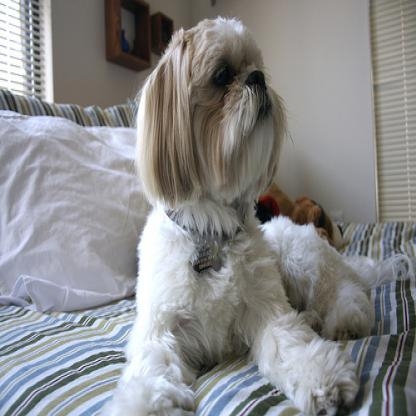dog: (107, 14, 411, 412)
